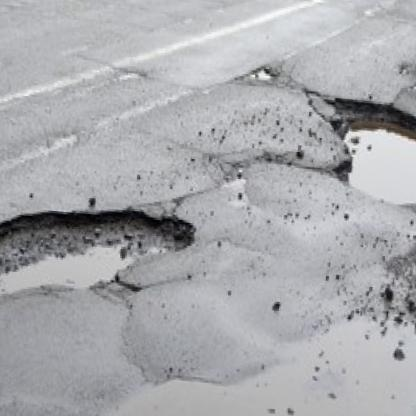pothole: (0, 185, 195, 328), (305, 93, 416, 213), (240, 64, 277, 83)
